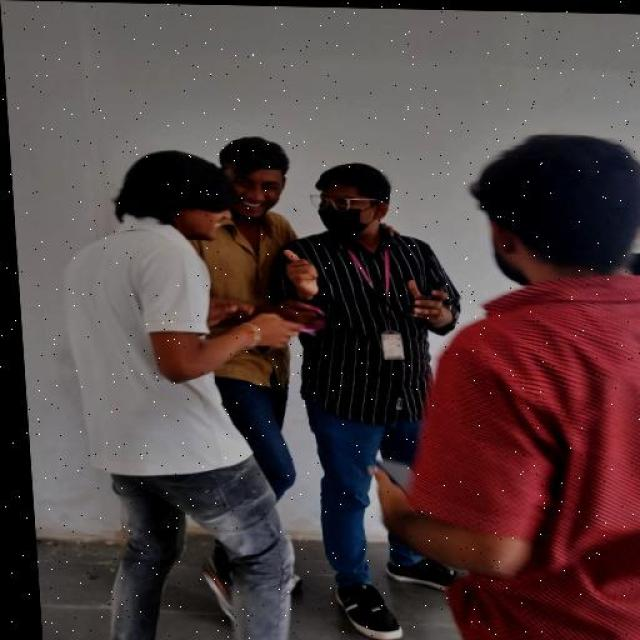id_card: (341, 248, 409, 365)
